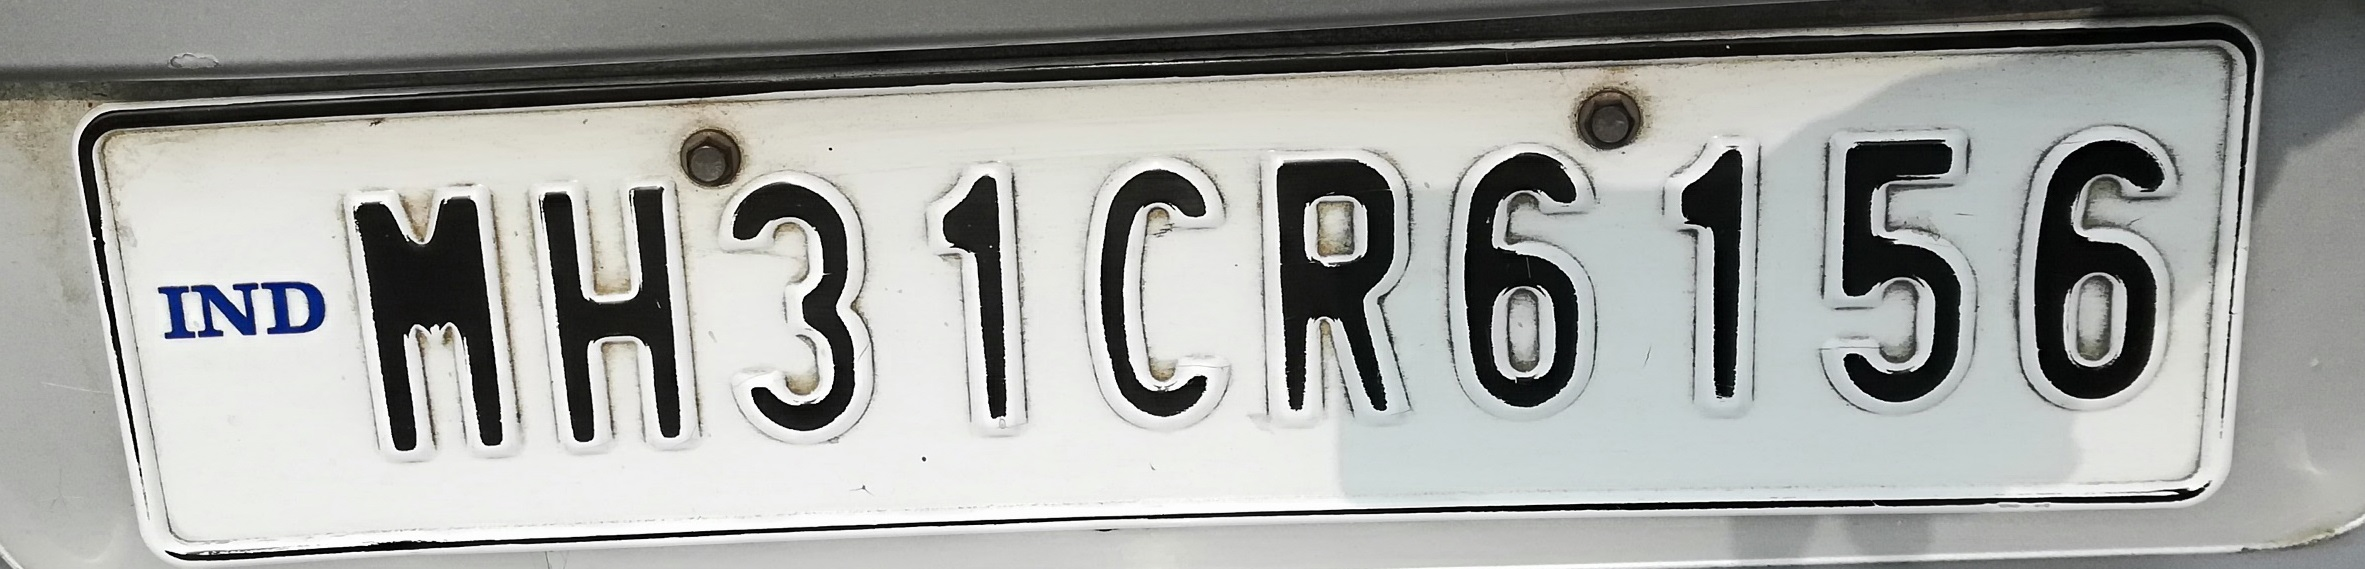numberplate: (76, 44, 2249, 568)
